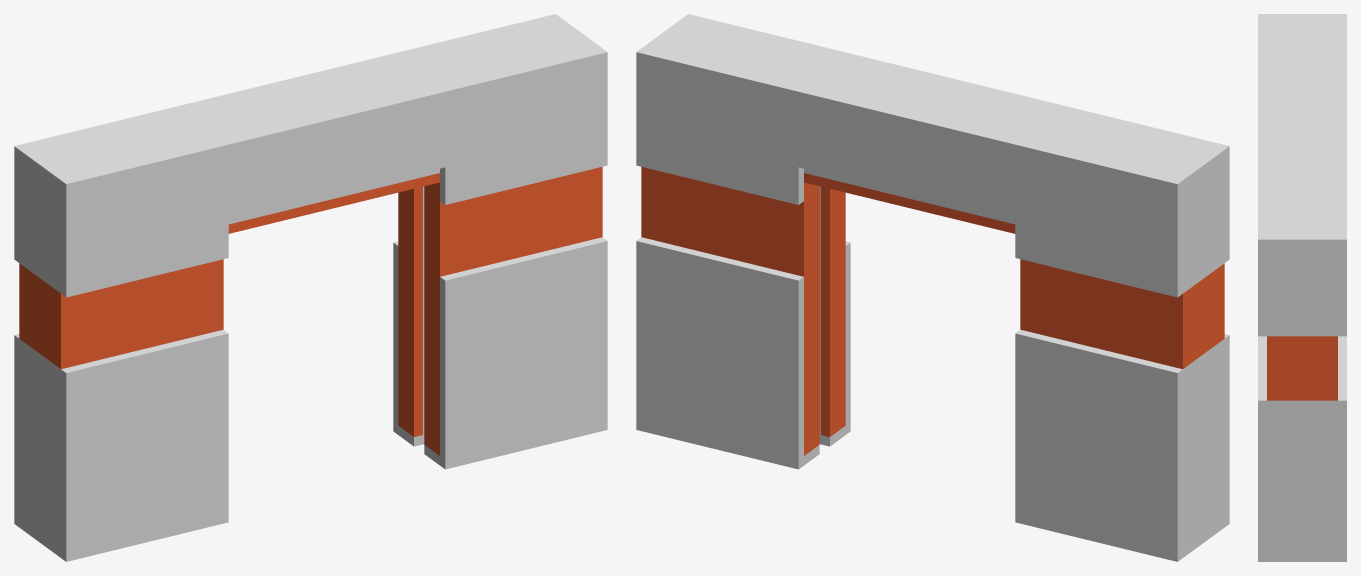
File: Commisary Doorway.obj
3 renders of one model, left to right at view 1: azimuth 30°, elevation 25°; view 2: azimuth 150°, elevation 25°; view 3: azimuth 270°, elevation 25°, orthographic. The views are drawn at different scales.
Size of the model in its own units: 60 by 40 by 10.
1 material, 1 textured.
